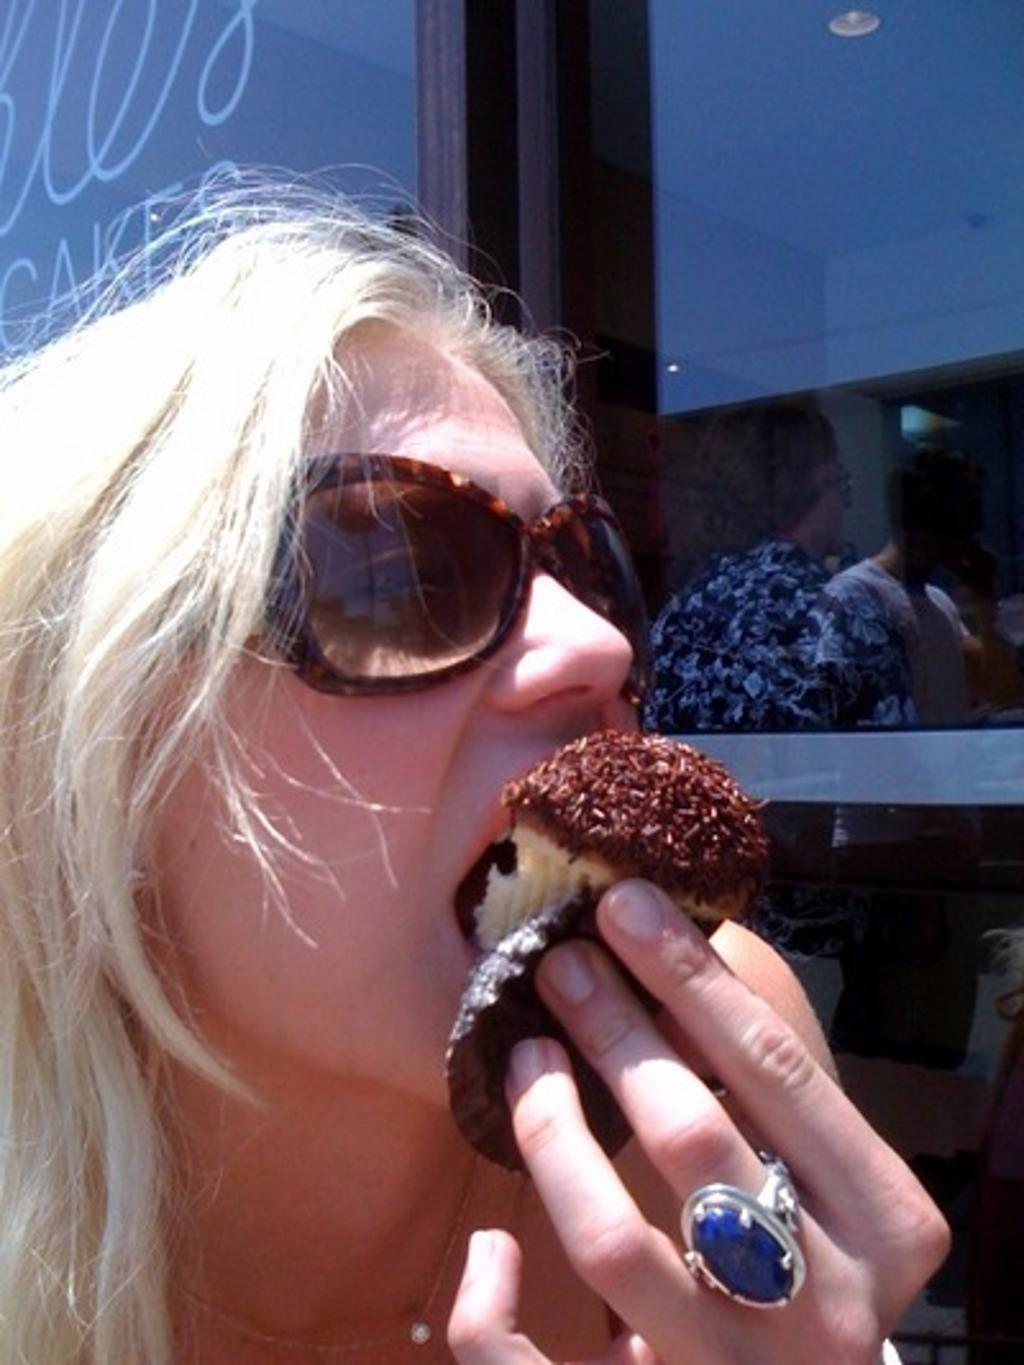face: (113, 326, 644, 1110)
